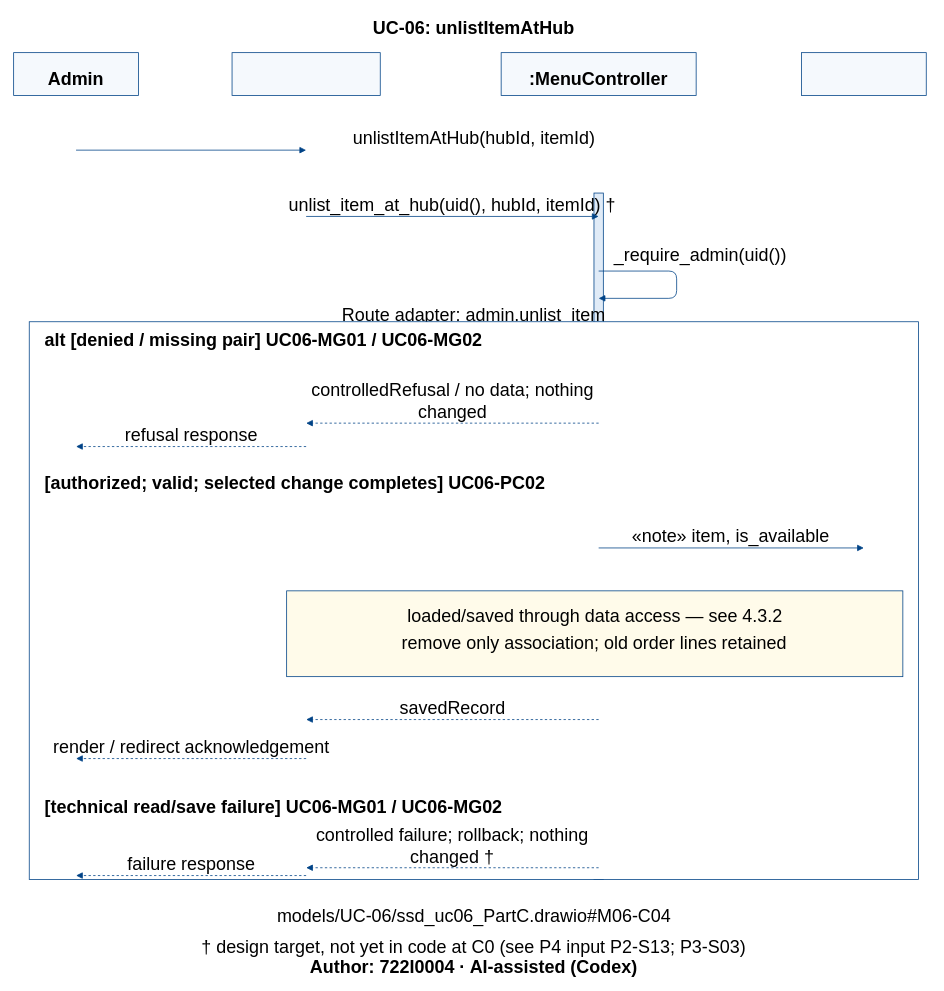
Some shapes in this 944 by 991 pixel diagram are drawn without their labels. Here are the shapes that lost their labels. From the top down, the centre of each, then its label:
At pixel 305 74: "«view» admin".
At pixel 863 74: ":HubMenuItem".
